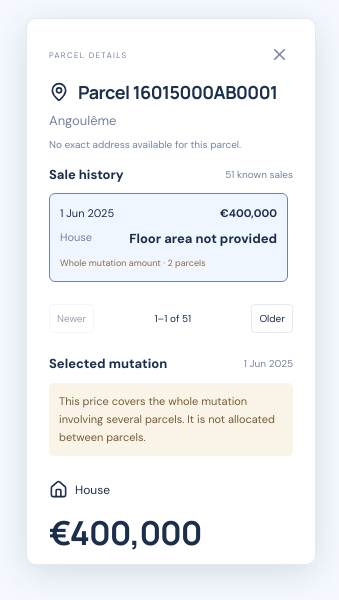
Test case: parcel entry point › paginates with the same immutable release
The width and height of the screenshot is (339, 600).
Check: the text "51 known sales" is shown, box [225, 168, 293, 181]
Click the button "Older": (272, 319) [251, 304, 293, 333]
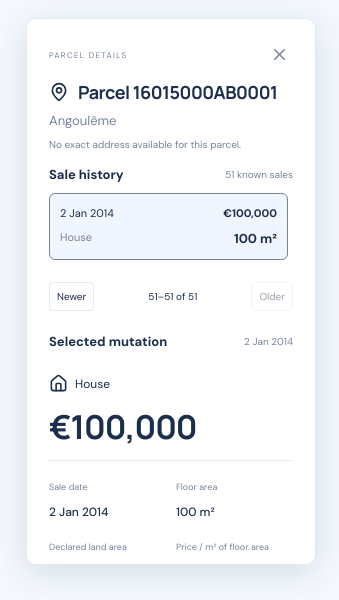
Check: the text "51–51 of 51" is shown, box [148, 290, 197, 303]
